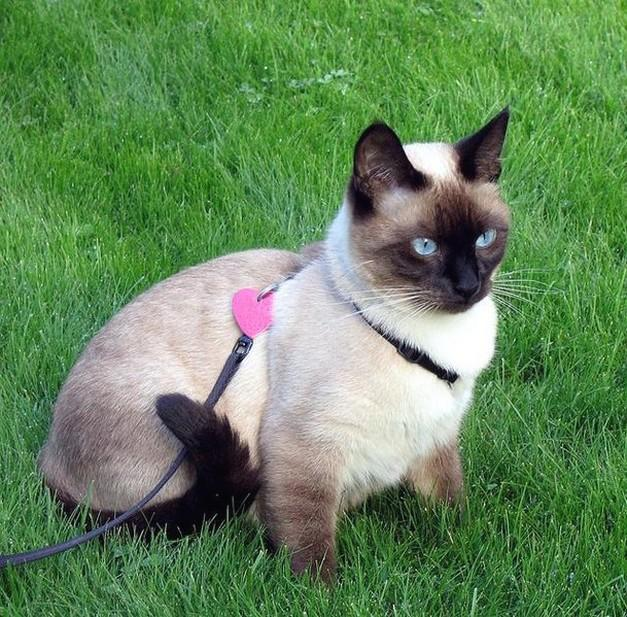siamese: (346, 111, 531, 325)
